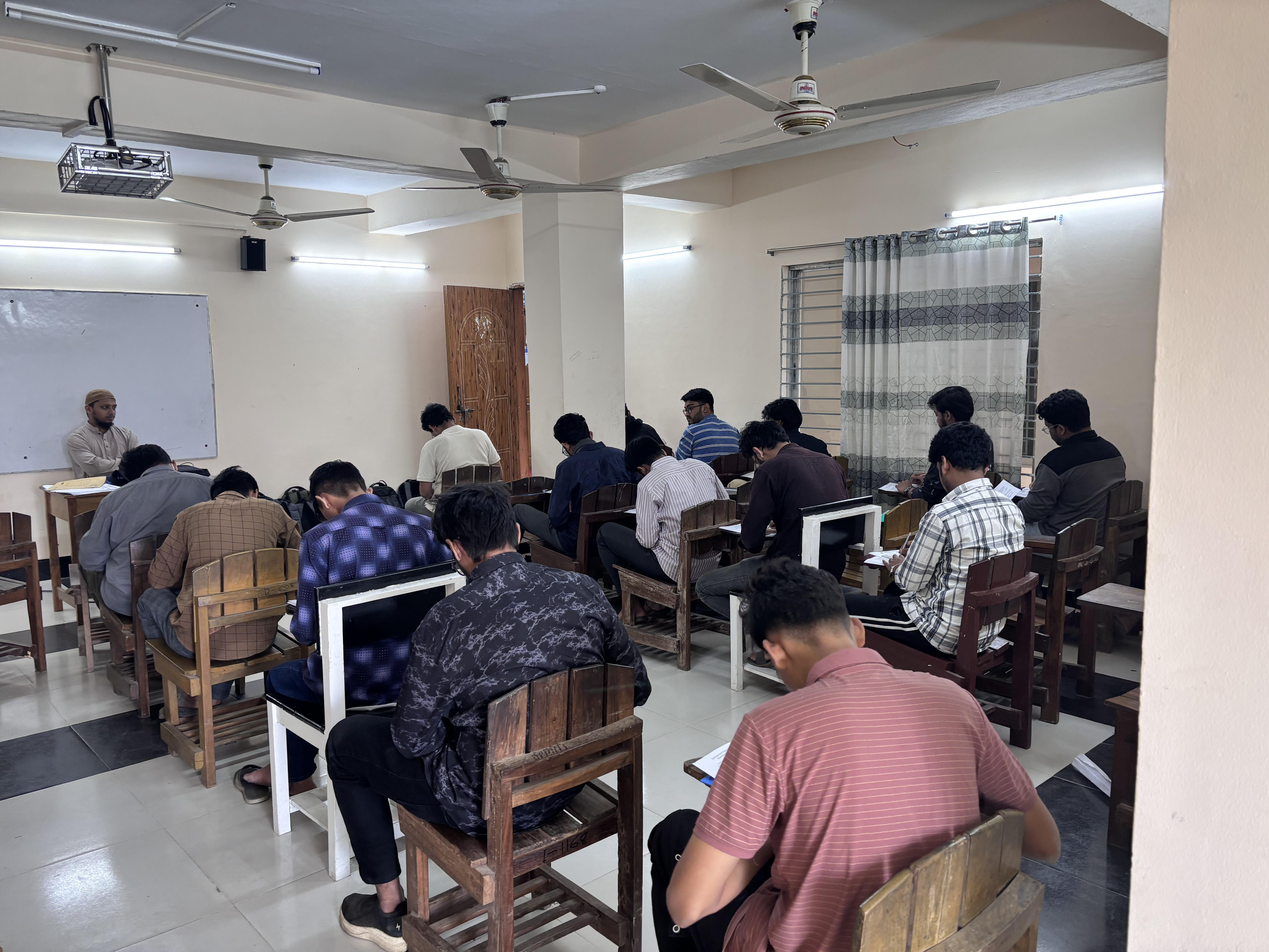invigilator: (62, 380, 130, 498)
no_cheating: (700, 567, 912, 921), (399, 483, 584, 842), (273, 444, 418, 650), (858, 428, 1005, 618), (164, 463, 289, 671), (993, 387, 1127, 568), (89, 434, 203, 626), (605, 428, 725, 571), (726, 417, 833, 554), (528, 407, 624, 552), (878, 379, 978, 509), (408, 401, 498, 544)
suspicious_moving: (660, 386, 745, 478)
